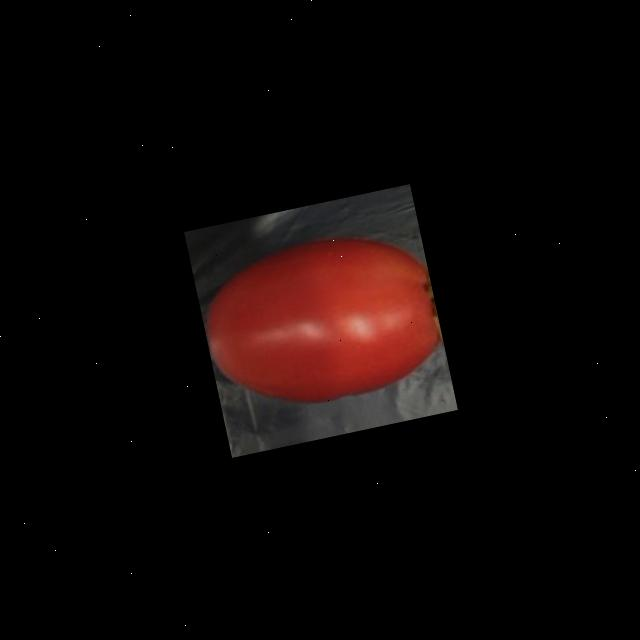tomato: (192, 214, 450, 423)
